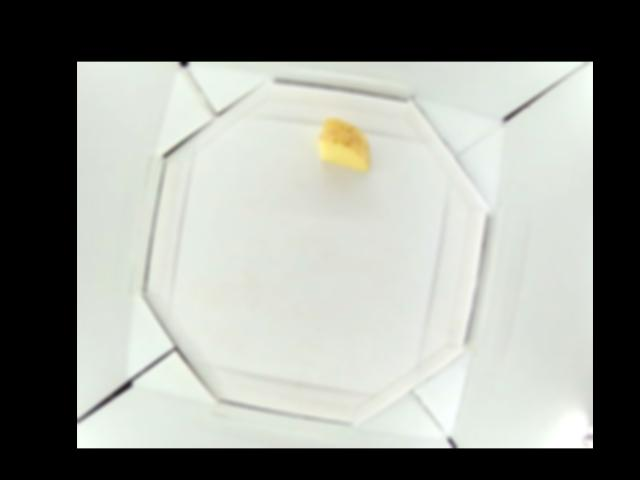Potato: (317, 119, 369, 170)
